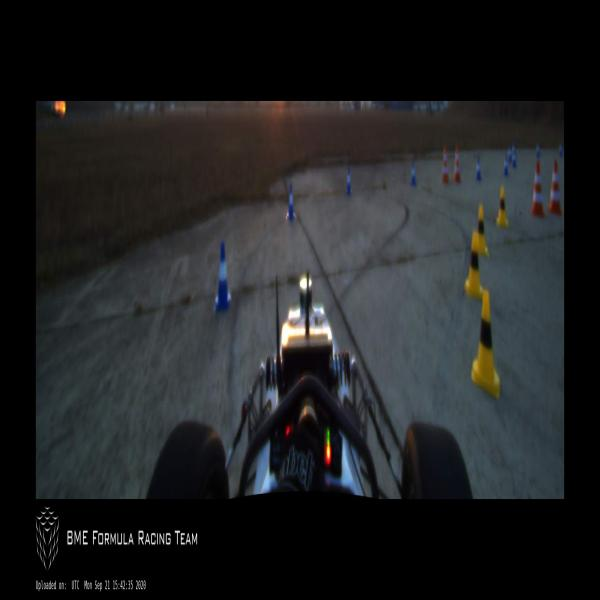blue_cone: (214, 242, 231, 312), (286, 183, 296, 221), (346, 167, 352, 196), (410, 161, 416, 187), (503, 154, 509, 176), (476, 156, 481, 182), (512, 150, 517, 169), (536, 142, 540, 157)
large_orange_cone: (530, 160, 546, 218), (548, 159, 562, 215), (442, 144, 450, 185), (453, 145, 461, 184)
yellow_cone: (471, 292, 500, 400), (464, 232, 483, 302), (477, 206, 489, 258), (498, 187, 508, 228)
